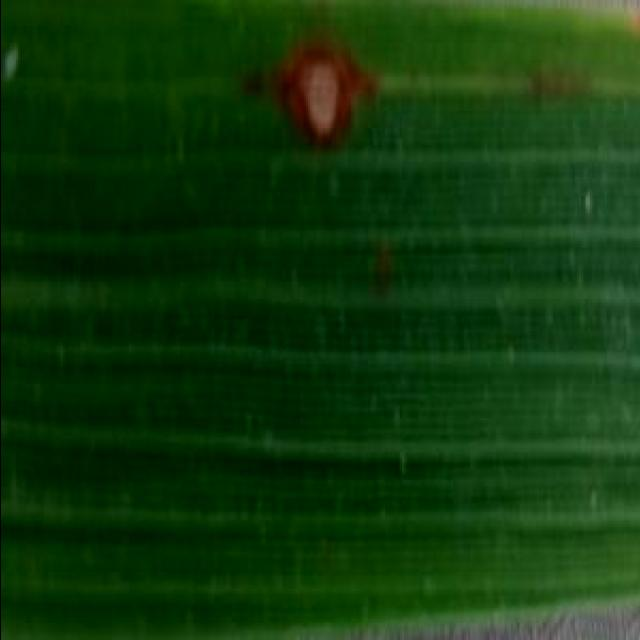Brown_Spot: (248, 27, 384, 159)
